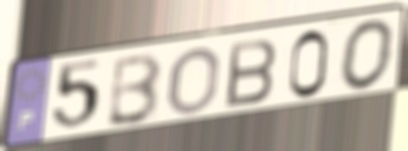0: (287, 27, 332, 100)
5: (50, 56, 104, 137)
B: (104, 50, 165, 129), (223, 36, 280, 111)
O: (339, 16, 398, 93), (164, 44, 223, 117)
